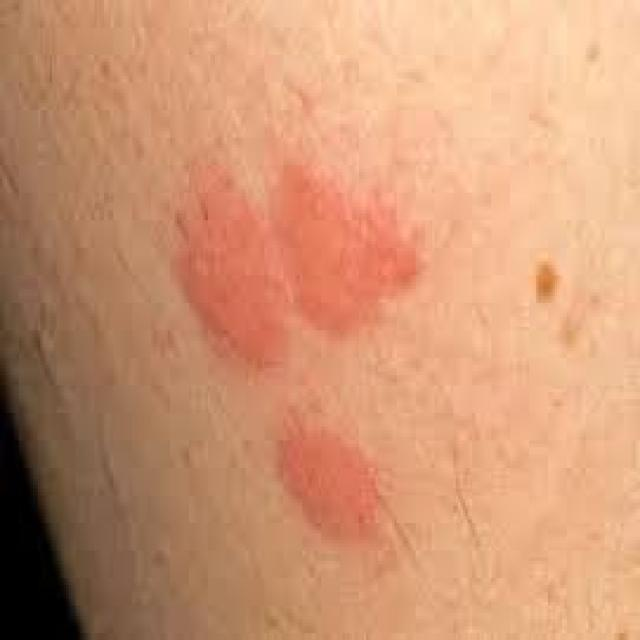kan emici bocekler: (192, 175, 397, 366), (274, 422, 378, 528)
